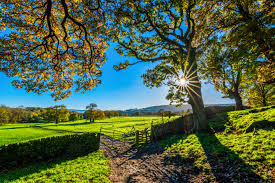field: (2, 108, 275, 181)
tree: (14, 6, 271, 130)
